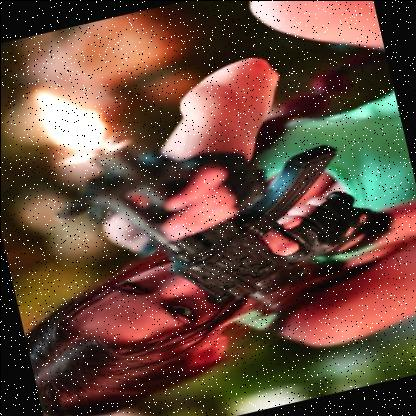rifle: (41, 91, 373, 353)
